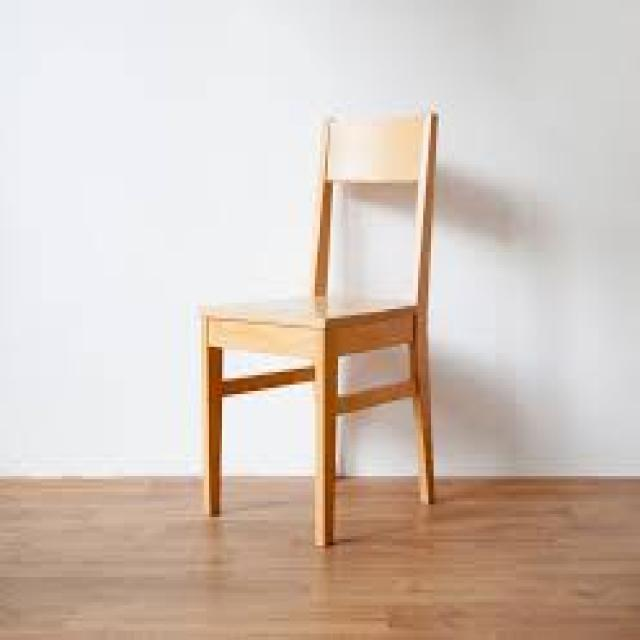chair: (184, 39, 496, 578)
